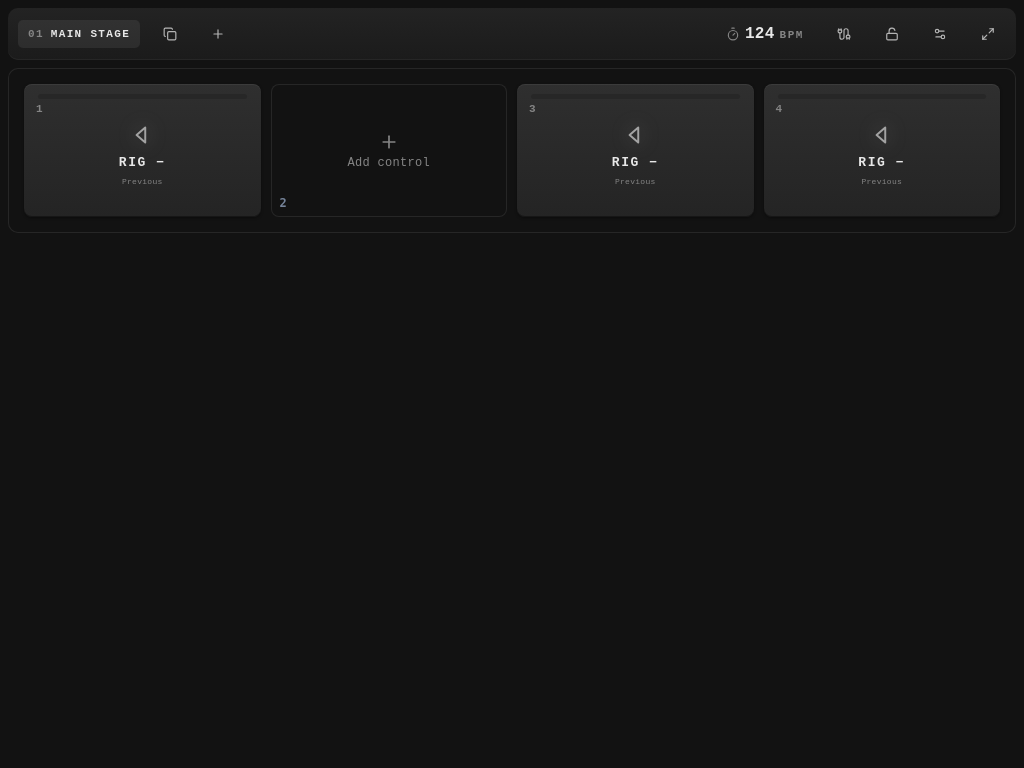
Scenario: Stage conditional UI › explains when the live tuner cannot obtain two adjacent cells
The image size is (1024, 768).
Click the button named "edit layout". click: (940, 34)
box: [922,16,958,52]
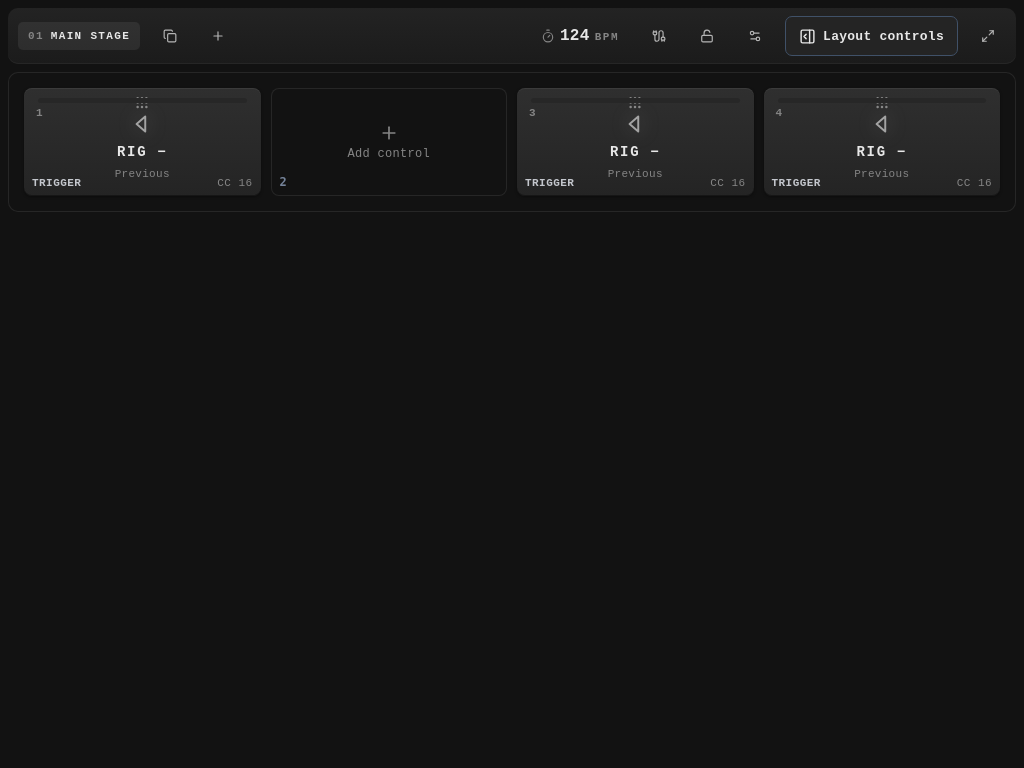
Click the button "Add control 2". click: (389, 142)
box: [270,88,507,196]
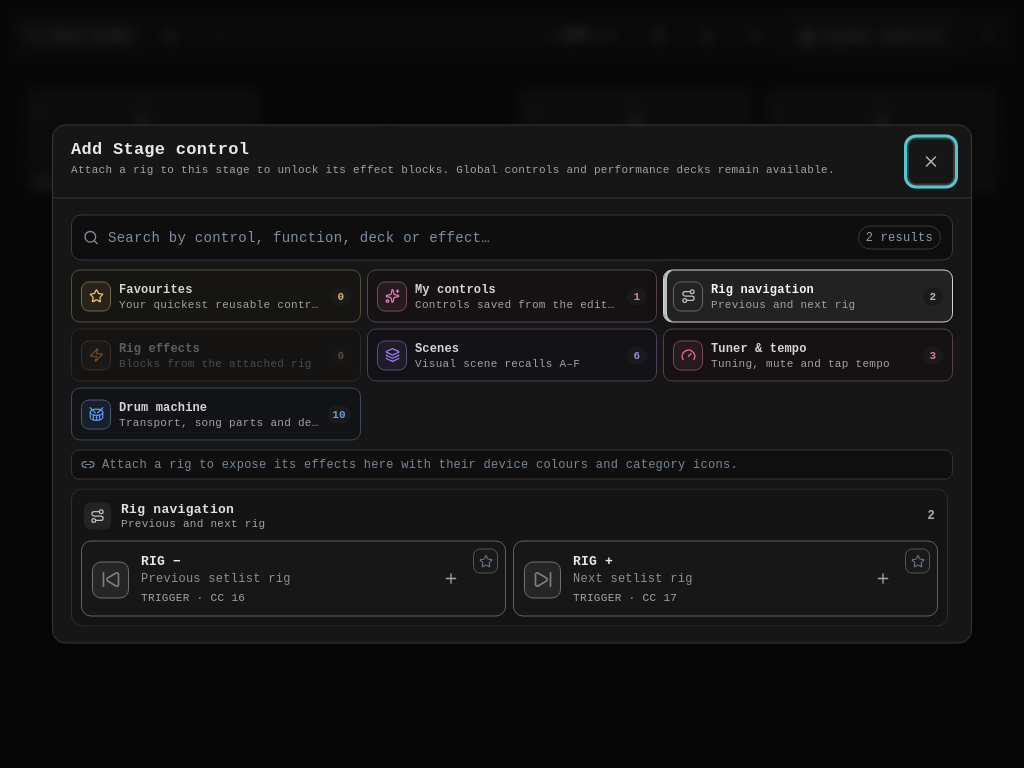
Click the tab "Tuner & tempo Tuning, mute and tap tempo 3". click: (808, 355)
box: [663,328,953,382]
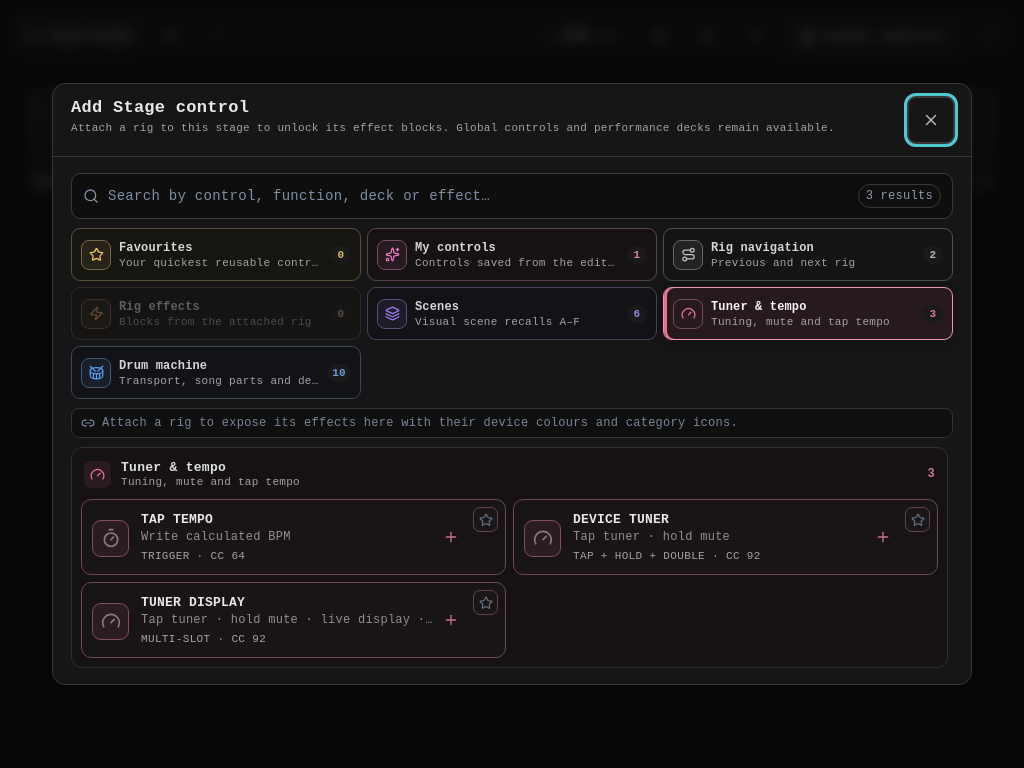
Click the button "TUNER DISPLAY". click: (294, 620)
box: [82,583,505,657]
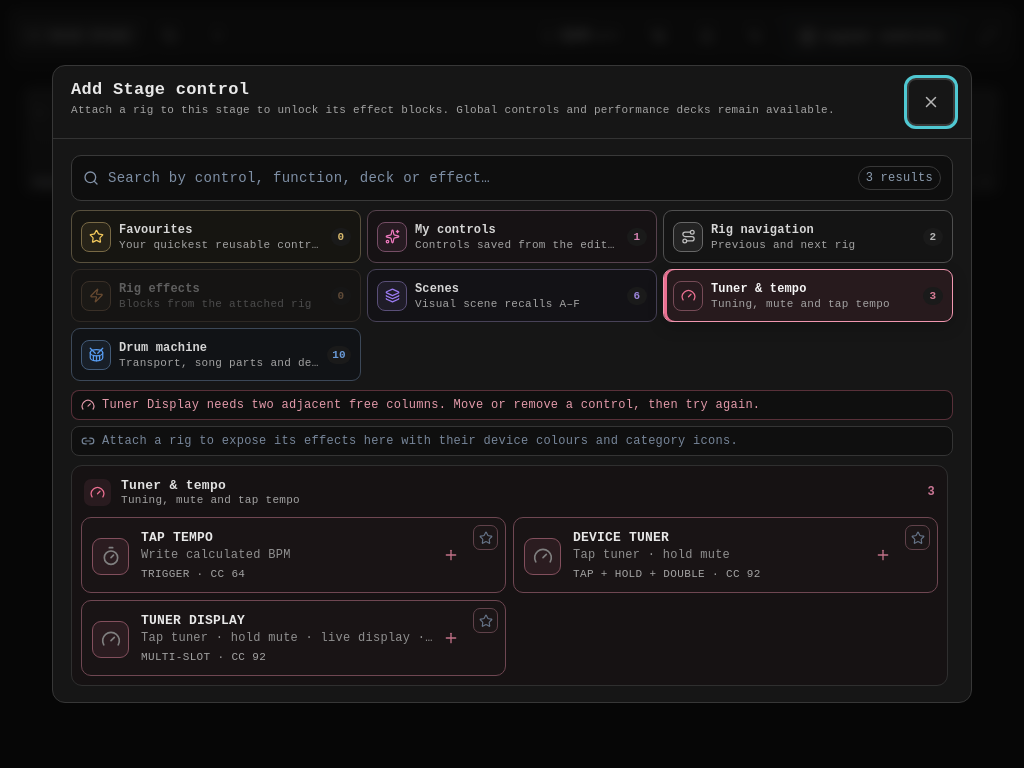
Result: the text "Tuner Display needs two adjacent free columns" is shown at [102,398,760,412]
